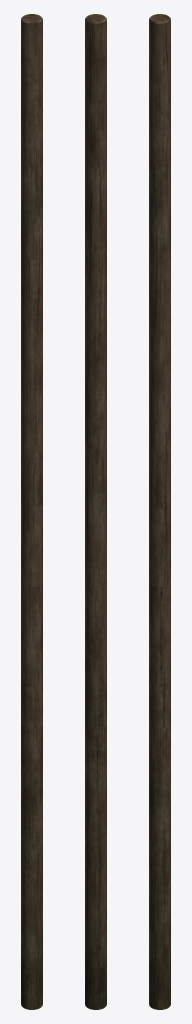
The model's file is ph_power_pole_09.fbx.
3 views of the same model, side by side, from view 1: azimuth 30°, elevation 25°; view 2: azimuth 150°, elevation 25°; view 3: azimuth 330°, elevation 25° (orthographic).
Parts seen in each view (by area): view 1: ph_power_pole_09_LOD0; view 2: ph_power_pole_09_LOD0; view 3: ph_power_pole_09_LOD0.
Part boxes in pixels (x1=…): ph_power_pole_09_LOD0: x1=21, y1=14, x2=42, y2=1009; ph_power_pole_09_LOD0: x1=85, y1=14, x2=106, y2=1009; ph_power_pole_09_LOD0: x1=149, y1=14, x2=170, y2=1009.
Size of what is drawn, in the model's own units: 0.1383 by 7 by 0.1383.
